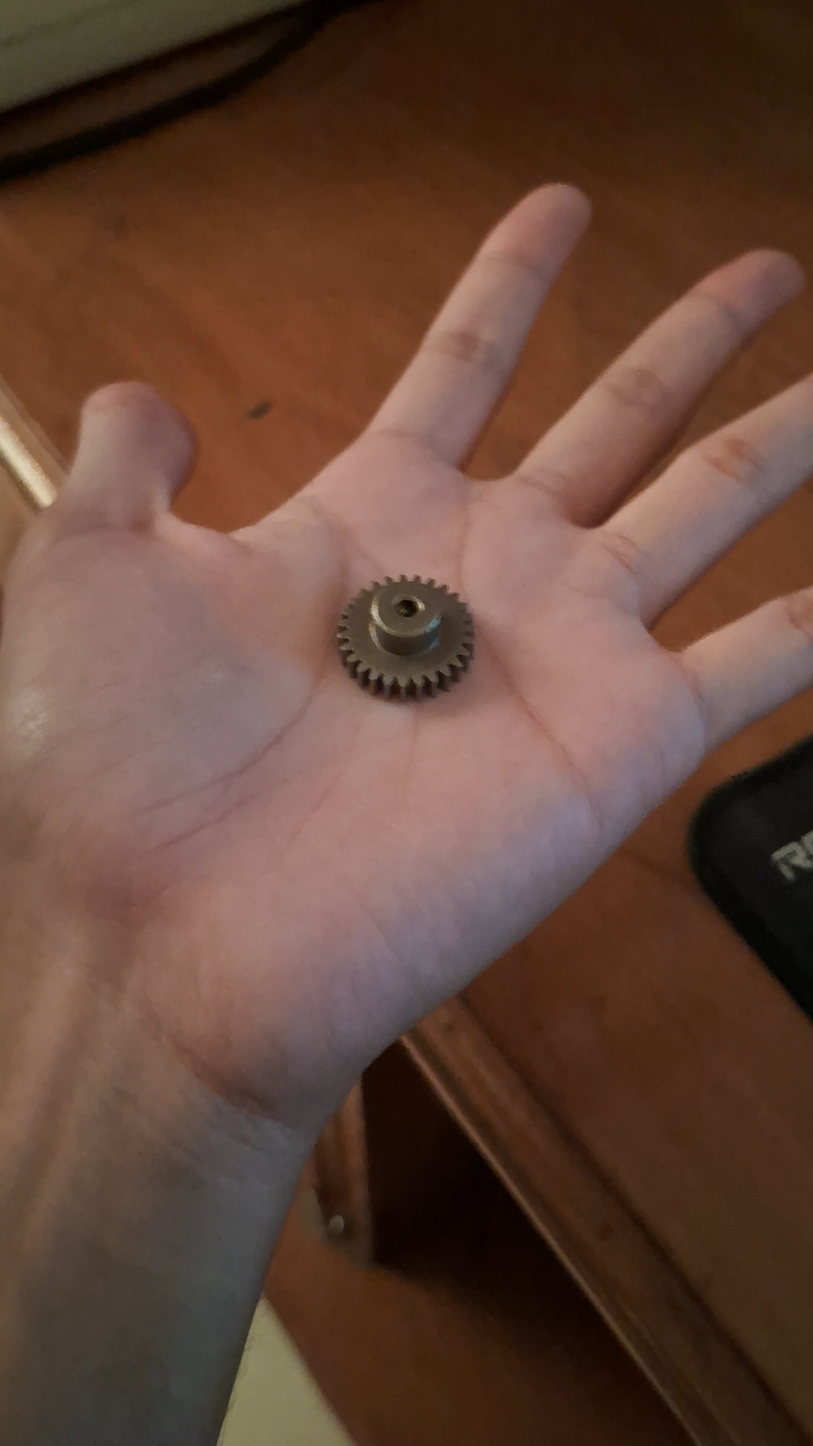spur gear: (338, 576, 473, 697)
